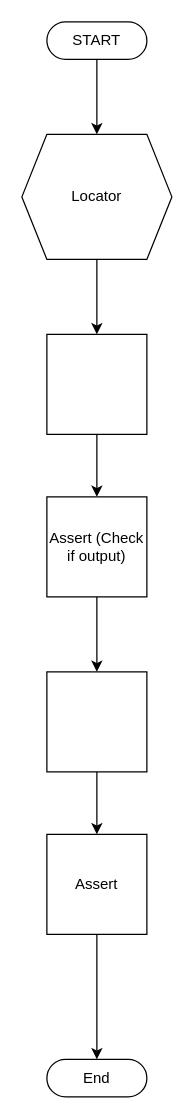
This 194x1119 diagram has some shape labels left out. The centre of each missing label's shape, as x and y in pixels:
Invalid Input: the point at 96,721
Valid Input: the point at 96,383
